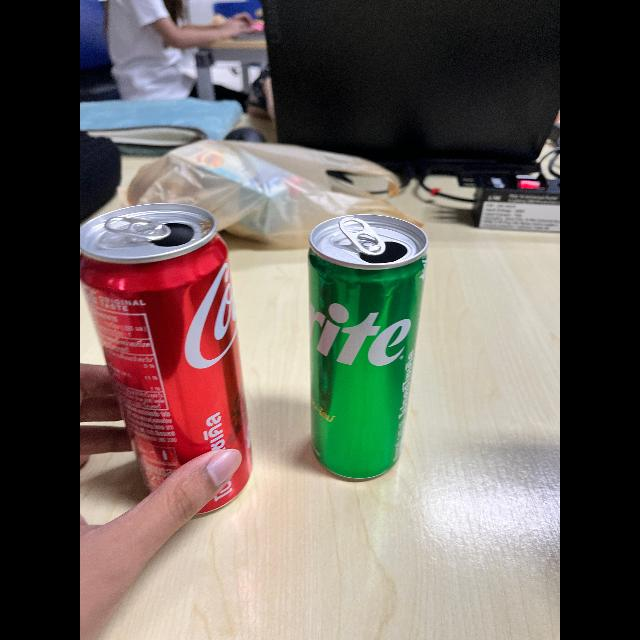can: (80, 200, 260, 510), (298, 202, 437, 494)
